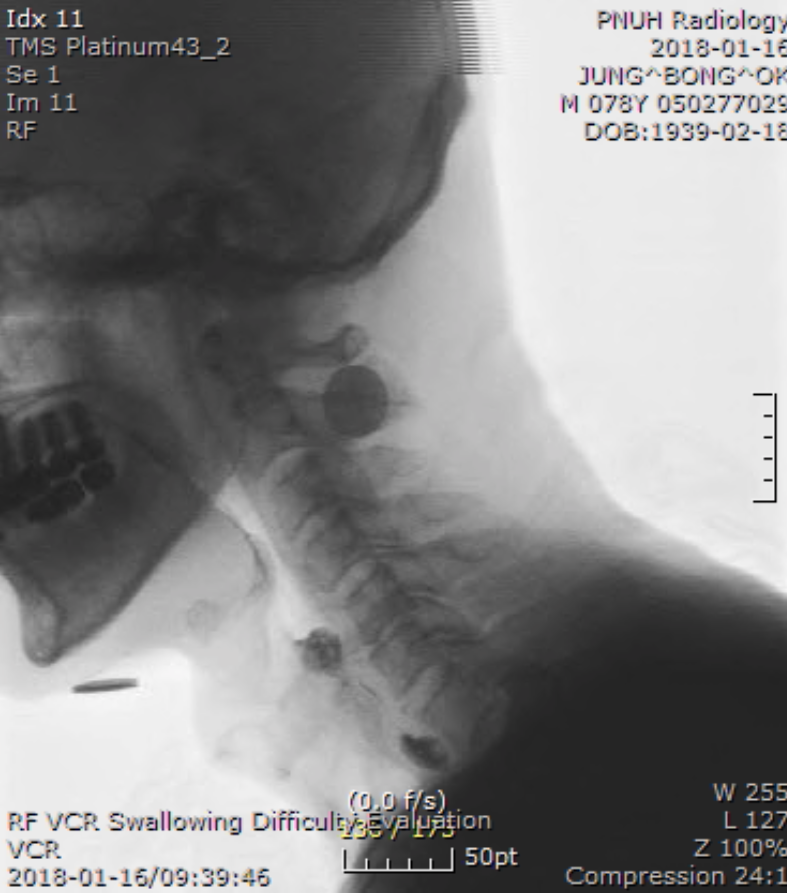dros: (267, 574, 333, 648)
food: (294, 610, 379, 705)
uros: (232, 525, 274, 598)
